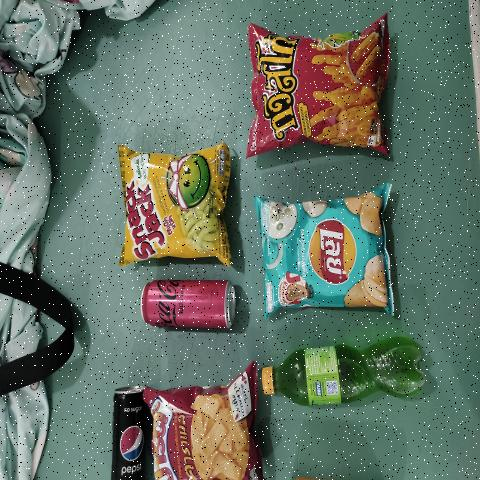coke_red: (144, 281, 228, 327)
fanta_green: (259, 342, 433, 410)
lay_blue: (264, 207, 386, 303)
party_red: (154, 377, 250, 480)
pepsi_black: (116, 392, 141, 480)
snack_jack: (124, 156, 221, 261)
twisco: (258, 39, 377, 145)
